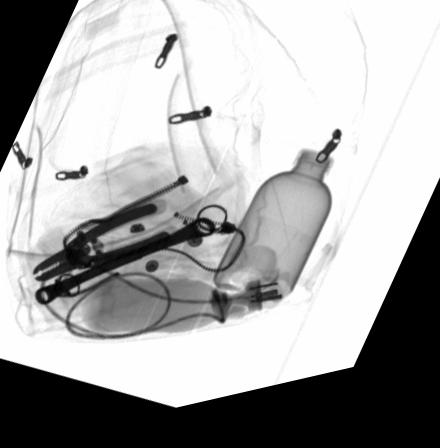Pliers: (32, 204, 177, 285)
Wrench: (32, 225, 217, 308)
